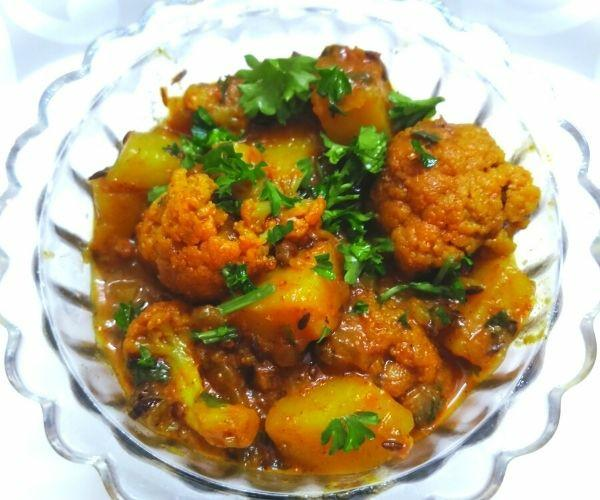AlooGobi: (94, 43, 540, 471)
